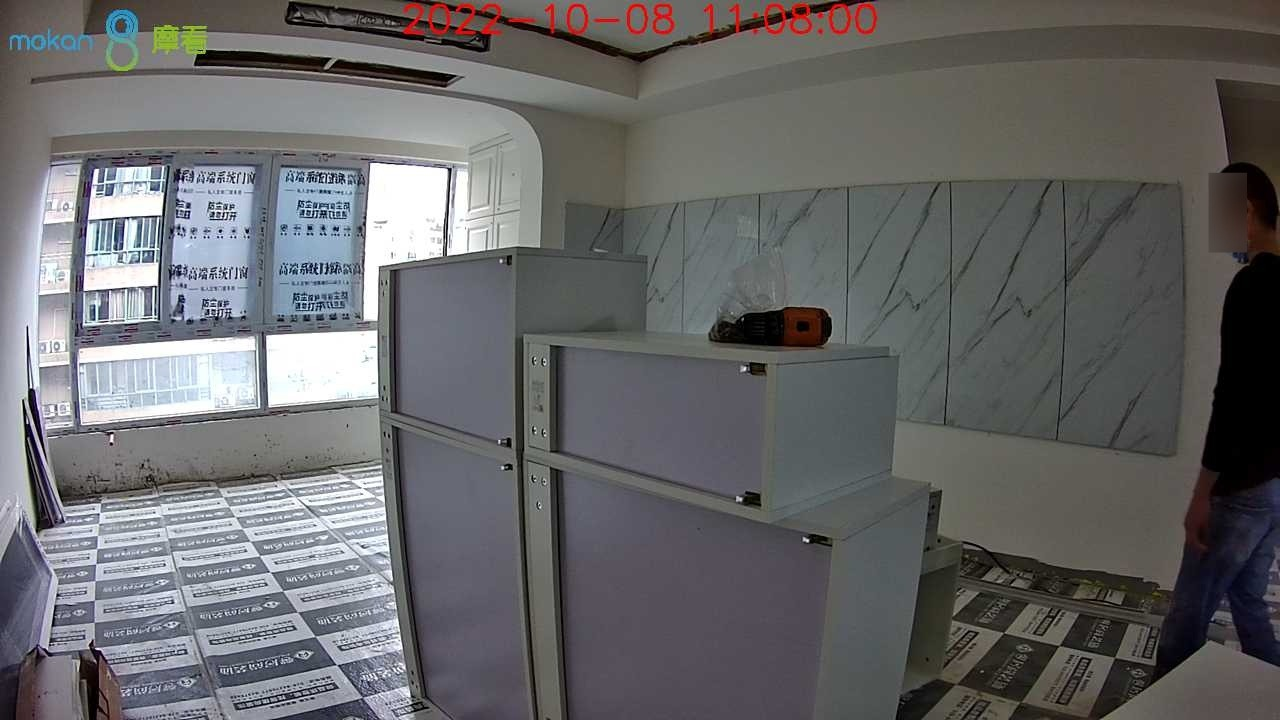people: (1155, 159, 1280, 691)
window: (38, 146, 453, 426)
